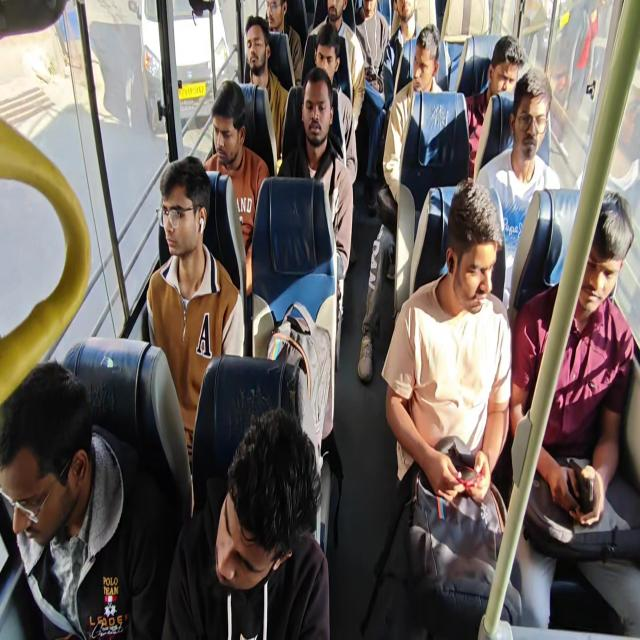person: (209, 424, 316, 607), (0, 369, 96, 551), (444, 177, 503, 329), (580, 187, 632, 341), (159, 159, 209, 258), (508, 72, 556, 166), (207, 83, 245, 174), (299, 78, 332, 160), (488, 34, 523, 102), (406, 30, 441, 97), (312, 15, 341, 77), (244, 18, 268, 76), (392, 0, 419, 24), (262, 0, 284, 28), (322, 0, 351, 18), (361, 0, 375, 18)
